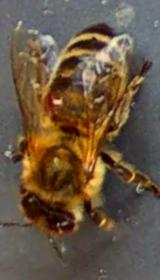varroa_mite: (34, 85, 68, 114)
